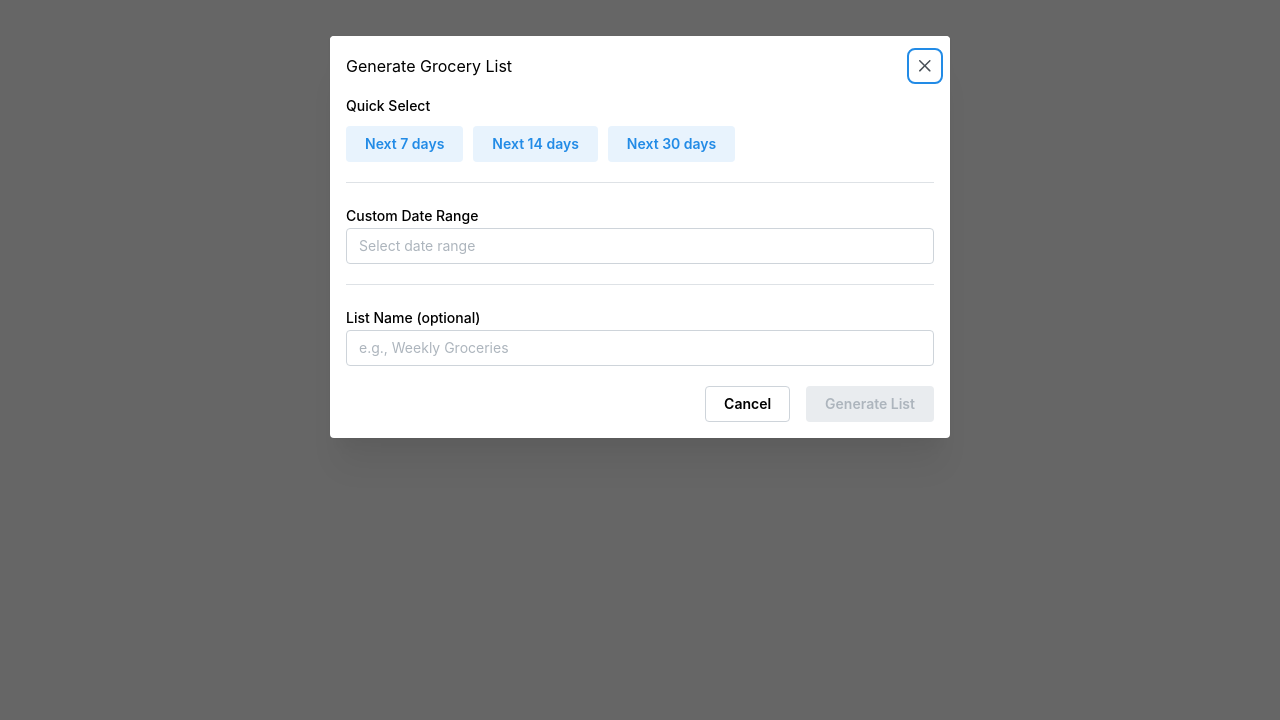
Test: GroceryListGenerator › should show days selected when date range is chosen
Click the button "Next 7 days": [405, 144] box [346,126,463,162]
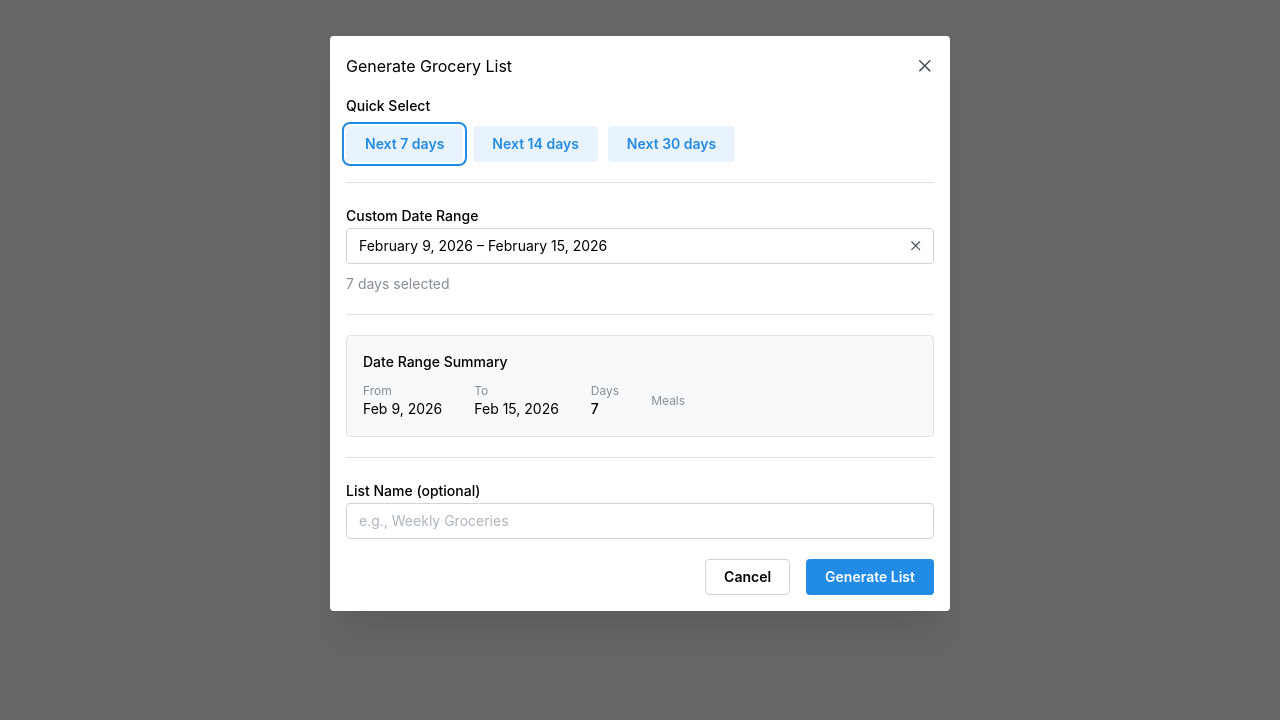
Check: the text "7 days selected" is shown, box [346,275,450,292]
Check: the text "Date Range Summary" is shown, box [363,353,508,370]
